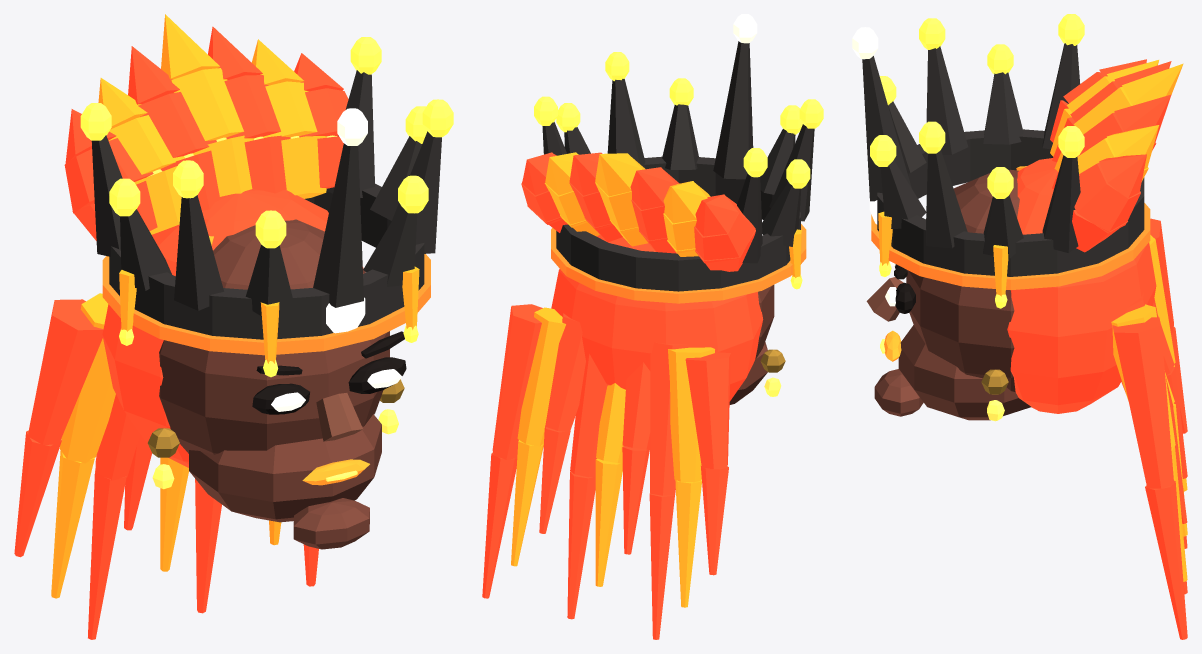
The model's file is ember_queen_head.glb.
3 views of the same model, side by side, from view 1: azimuth 30°, elevation 25°; view 2: azimuth 150°, elevation 25°; view 3: azimuth 270°, elevation 25° (orthographic). The views are drawn at different scales.
Visible parts, largest first — view 1: ember_queen_head; view 2: ember_queen_head; view 3: ember_queen_head.
Part boxes in pixels (x1=…): ember_queen_head: x1=14, y1=14, x2=453, y2=639; ember_queen_head: x1=482, y1=14, x2=823, y2=639; ember_queen_head: x1=852, y1=14, x2=1187, y2=639.
Bounding box in the file's own units: 0.7958 × 1.55 × 0.8532.
